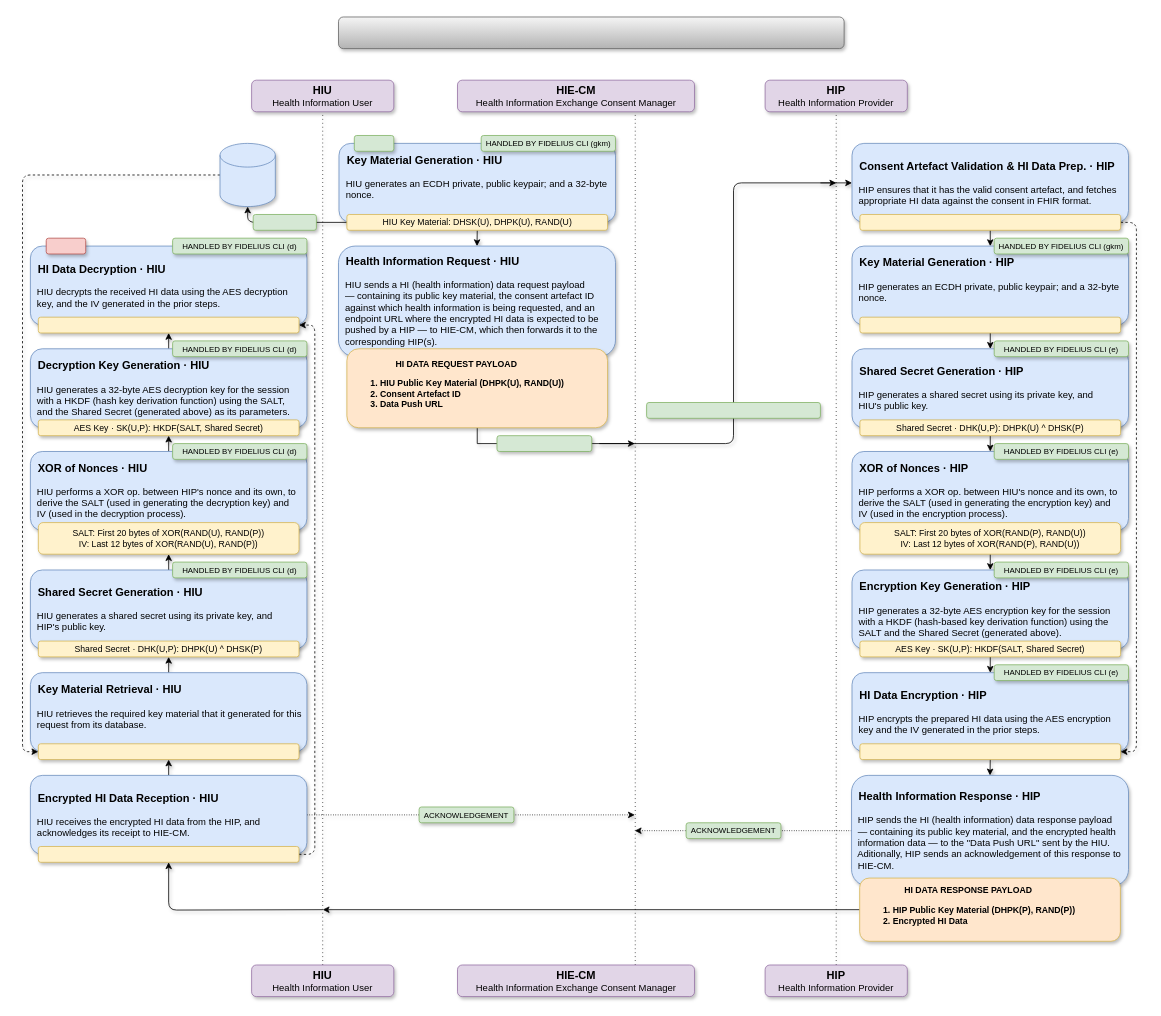
The diagram is 1161 pixels wide and 1016 high, and some of its shapes have lost their labels. The centre of each missing label's shape, as x and y in pixels:
"DATA REQ. FORWARDED TO HIP(s)" belongs at [734,411].
"DATA REQ. TO HIE-CM" belongs at [545,444].
"Decrypted HI Data: Decrypt(AES Key, IV, HI Data)" belongs at [169,326].
"Encrypted Health Information Data" belongs at [169,855].
"Encrypted HI Data: Encrypt(AES Key, IV, HI Data)" belongs at [990,752].
"END" belongs at [66,247].
"HEALTH INFORMATION DATA FLOW BETWEEN HIP & HIU · ABDM" belongs at [592,33].
"Health Information Data · FHIR Bundle" belongs at [990,223].
"HIP Key Material: DHSK(P), DHPK(P), RAND(P)" belongs at [990,326].
"HIU Database" belongs at [248,175].
"PERSISTENCE" belongs at [285,223].
"Required HIU Key Material: DHSK(U), RAND(U)" belongs at [169,752].
"START" belongs at [374,144].
